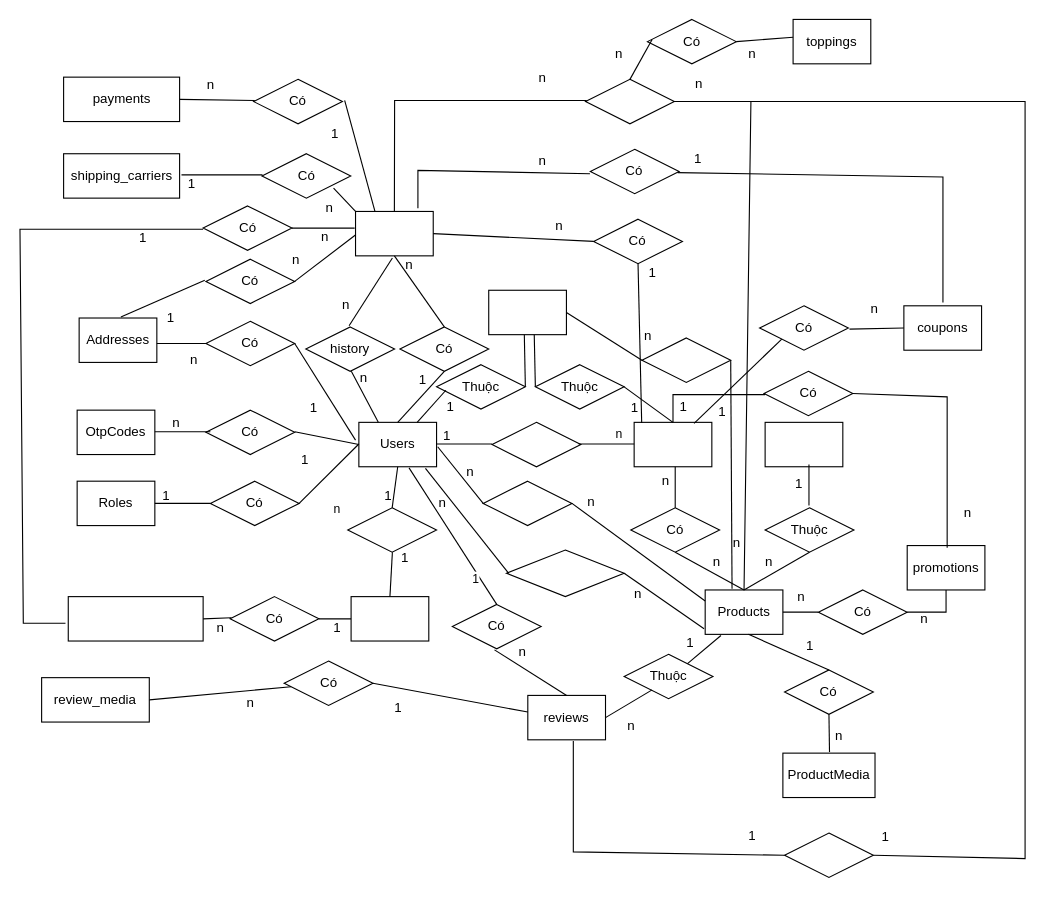
This 1046x897 diagram has some shape labels left out. The centre of each missing label's shape, as x and y in pixels:
cart_items: [686,359]
carts: [527,312]
Categories: [803,444]
Là: [392,529]
order_items: [629,101]
orders: [393,233]
recently_viewed: [564,573]
shippers: [389,618]
shipping_assignments: [135,618]
Shops: [672,444]
Sở hữu: [536,444]
wishlists: [527,503]
Đánh giá: [828,854]
